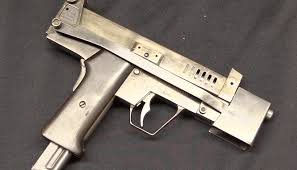gun: (38, 1, 274, 170)
